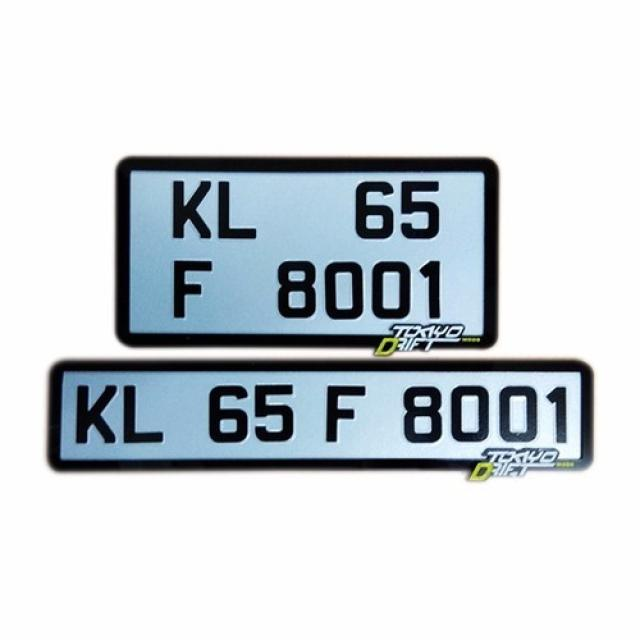license_plate: (124, 163, 488, 343), (54, 367, 588, 462)
